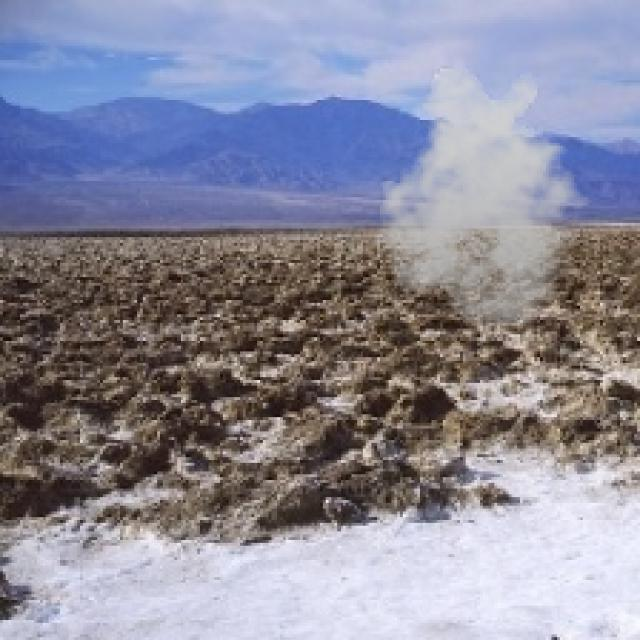smoke: (366, 63, 603, 331)
